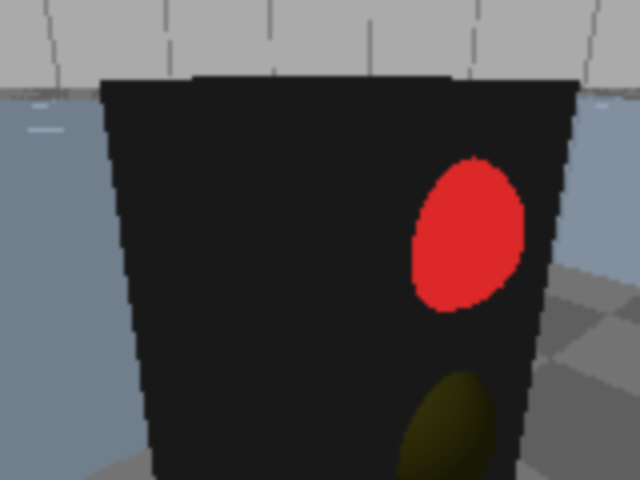goal_zone: (317, 172, 404, 190)
obstacle: (370, 163, 413, 188)
traffic_light: (92, 0, 589, 478)
